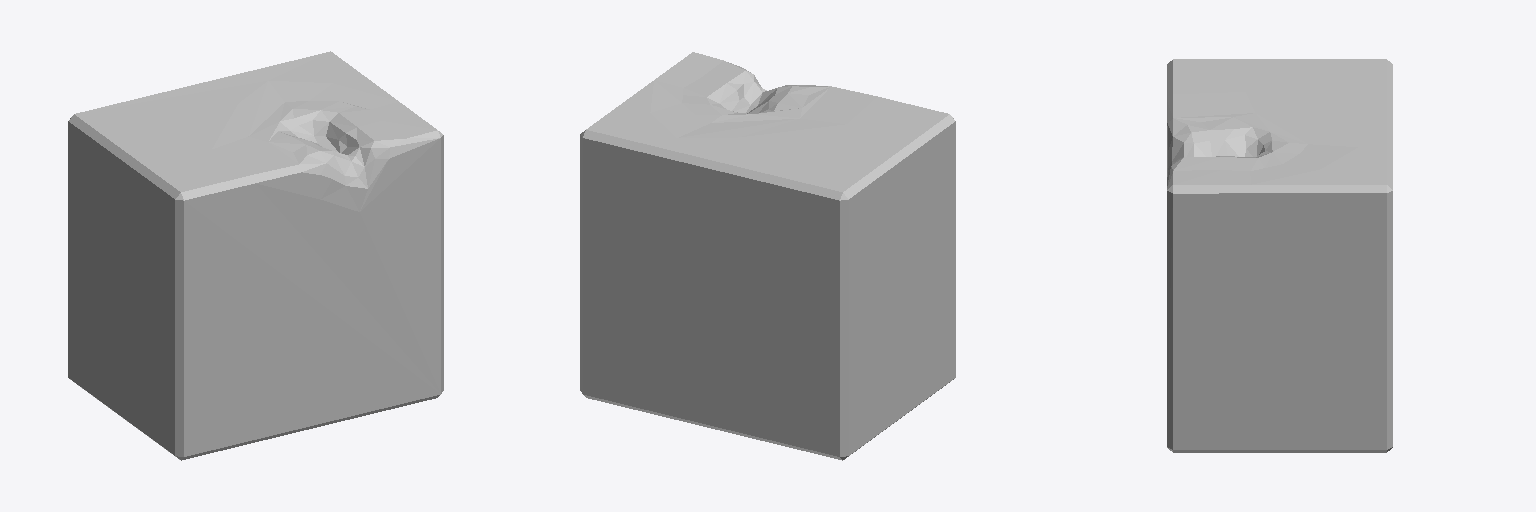
3 renders of one model, left to right at view 1: azimuth 30°, elevation 25°; view 2: azimuth 150°, elevation 25°; view 3: azimuth 270°, elevation 25°, orthographic.
Visible parts, largest first — view 1: Liquid_Domain; view 2: Liquid_Domain; view 3: Liquid_Domain.
Boxes of the visible parts, box(x1,y1,x2,y2) form: Liquid_Domain: box(68, 51, 443, 460); Liquid_Domain: box(580, 52, 955, 460); Liquid_Domain: box(1167, 59, 1392, 452).
Bounding box in the file's own units: 16.97 × 16.22 × 12.44.